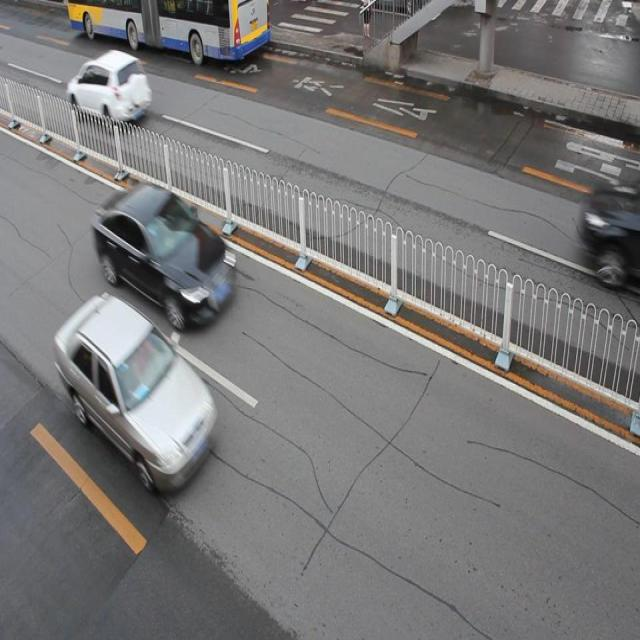car: (55, 296, 214, 486), (94, 181, 238, 326), (66, 49, 150, 128), (579, 182, 640, 290)
van: (71, 1, 272, 70)
